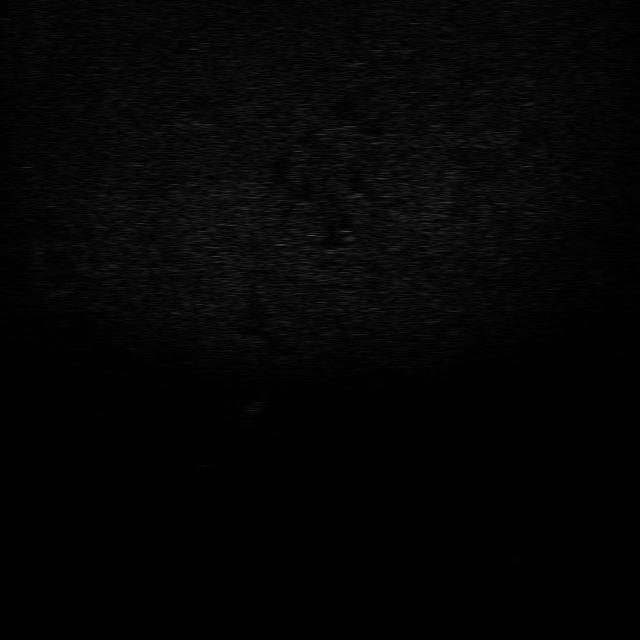human body: (234, 385, 276, 433)
